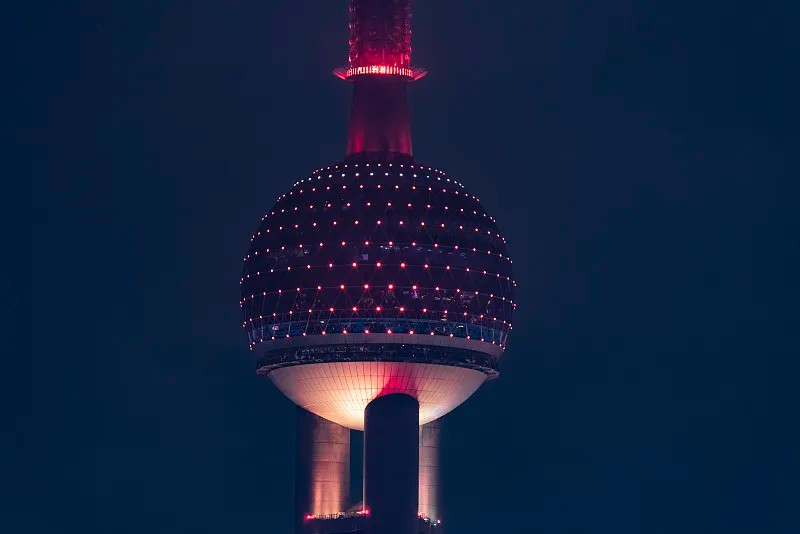Oriental: (238, 1, 516, 534)
